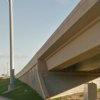Bridge: (20, 3, 90, 90)
